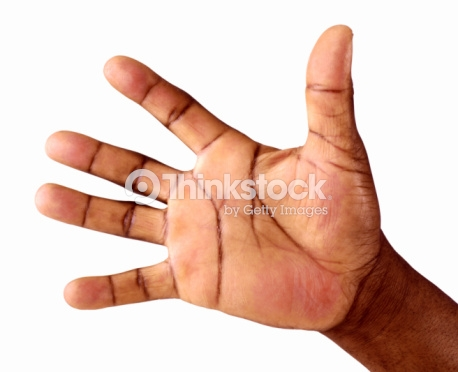open_hand: (27, 14, 397, 351)
